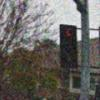traffic lights: (60, 25, 78, 68)
